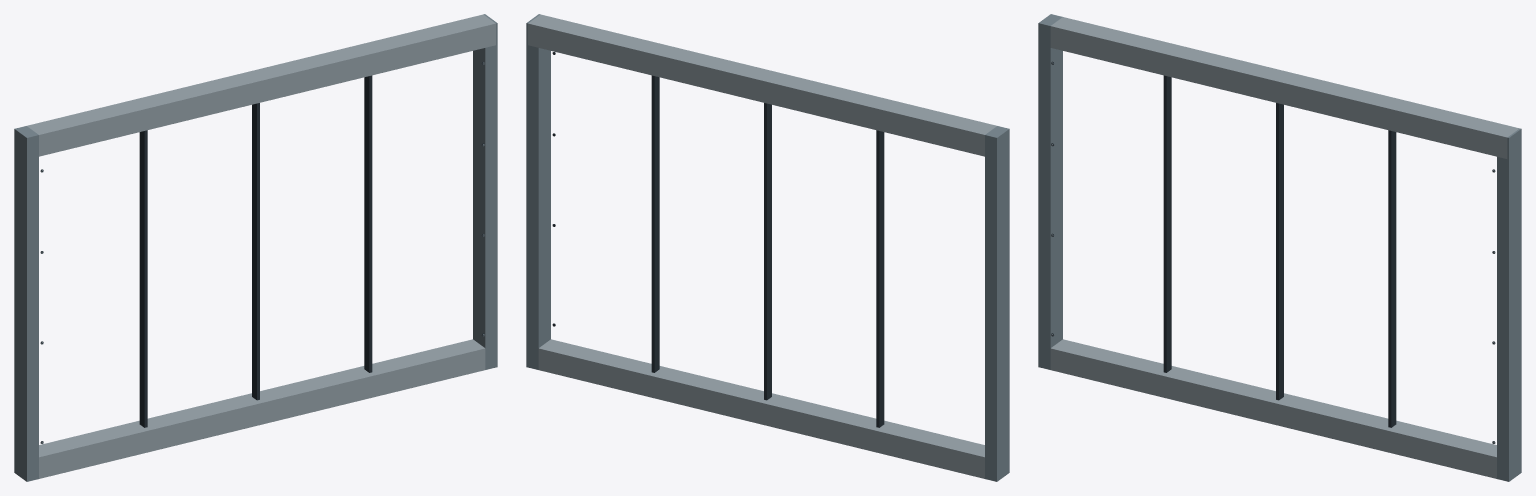
Rendered from SM_Lab_WindowFrame.fbx.
3 views of the same model, side by side, from view 1: azimuth 30°, elevation 25°; view 2: azimuth 150°, elevation 25°; view 3: azimuth 330°, elevation 25° (orthographic).
Parts seen in each view (by area): view 1: SM_Lab_WindowFrame; view 2: SM_Lab_WindowFrame; view 3: SM_Lab_WindowFrame.
Part boxes in pixels (bbox=[...]): SM_Lab_WindowFrame: bbox=[14, 14, 497, 481]; SM_Lab_WindowFrame: bbox=[526, 14, 1009, 481]; SM_Lab_WindowFrame: bbox=[1038, 14, 1521, 481].
Bounding box in the file's own units: 544 × 27.25 × 380.
